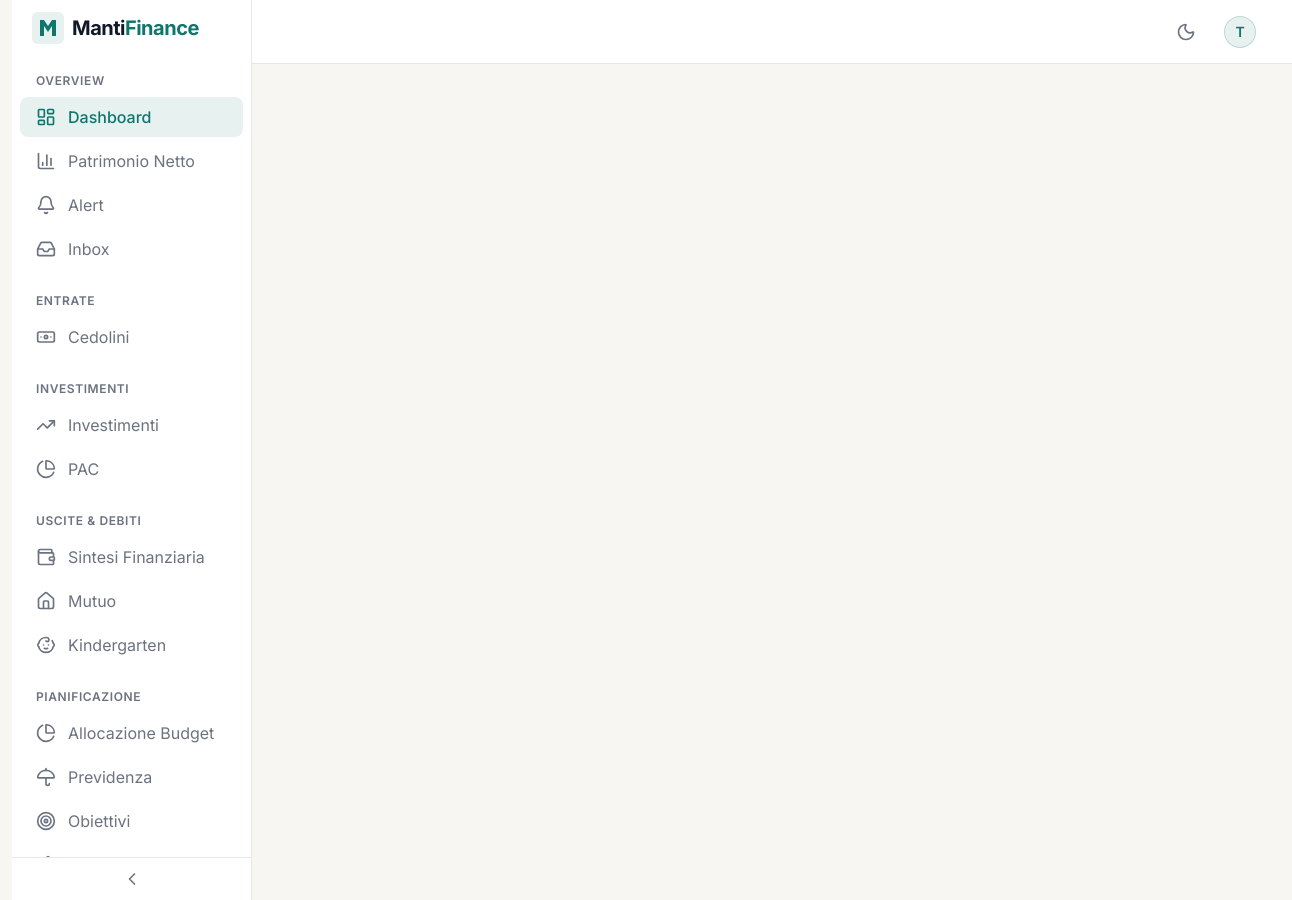
Test case: Layout Component › toggles sidebar expansion on desktop
The image size is (1292, 900).
Expected: the heading "Overview" is shown, x1=36 y1=73 x2=105 y2=88
Click the 3rd button at (132, 879), box x1=12 y1=857 x2=251 y2=899
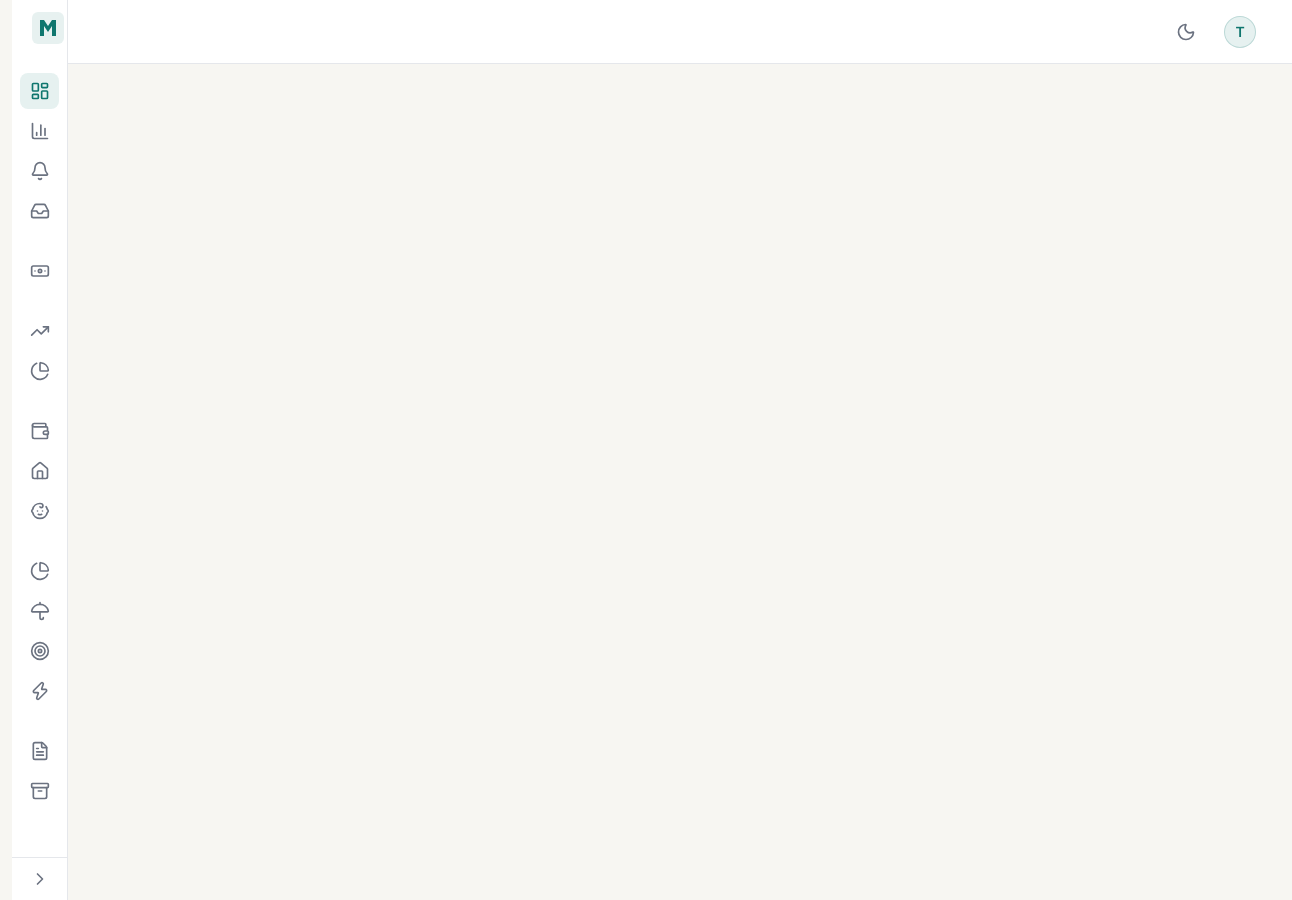
Result: the heading "Overview" is gone
